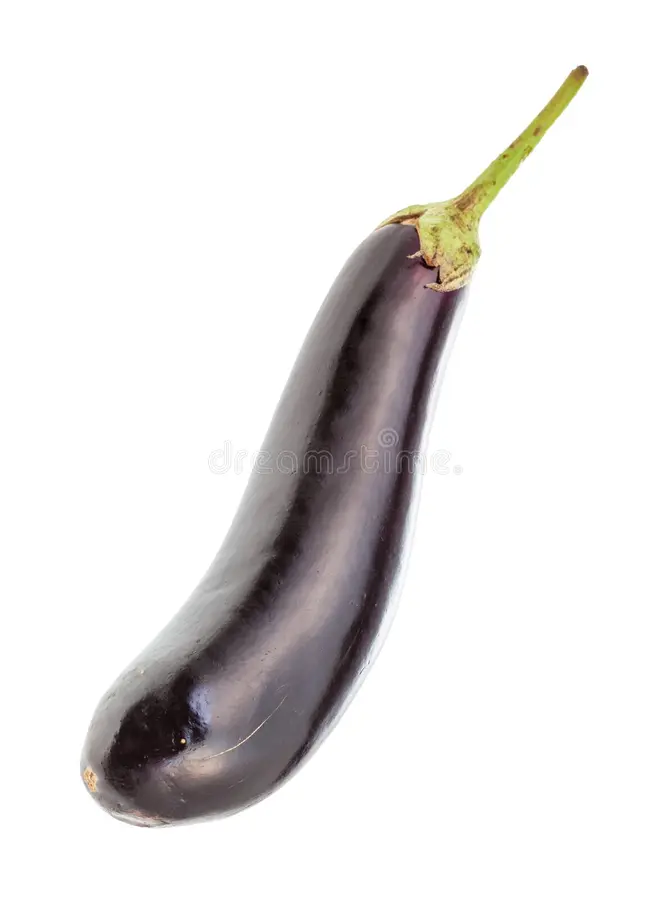food_waste: (494, 12, 668, 900)
